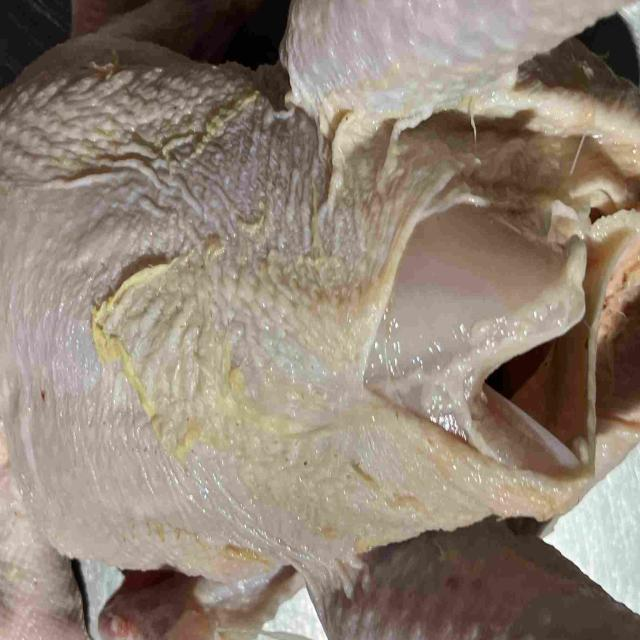breast: (0, 27, 583, 577)
leg: (317, 531, 640, 640)
neck: (0, 385, 85, 640)
